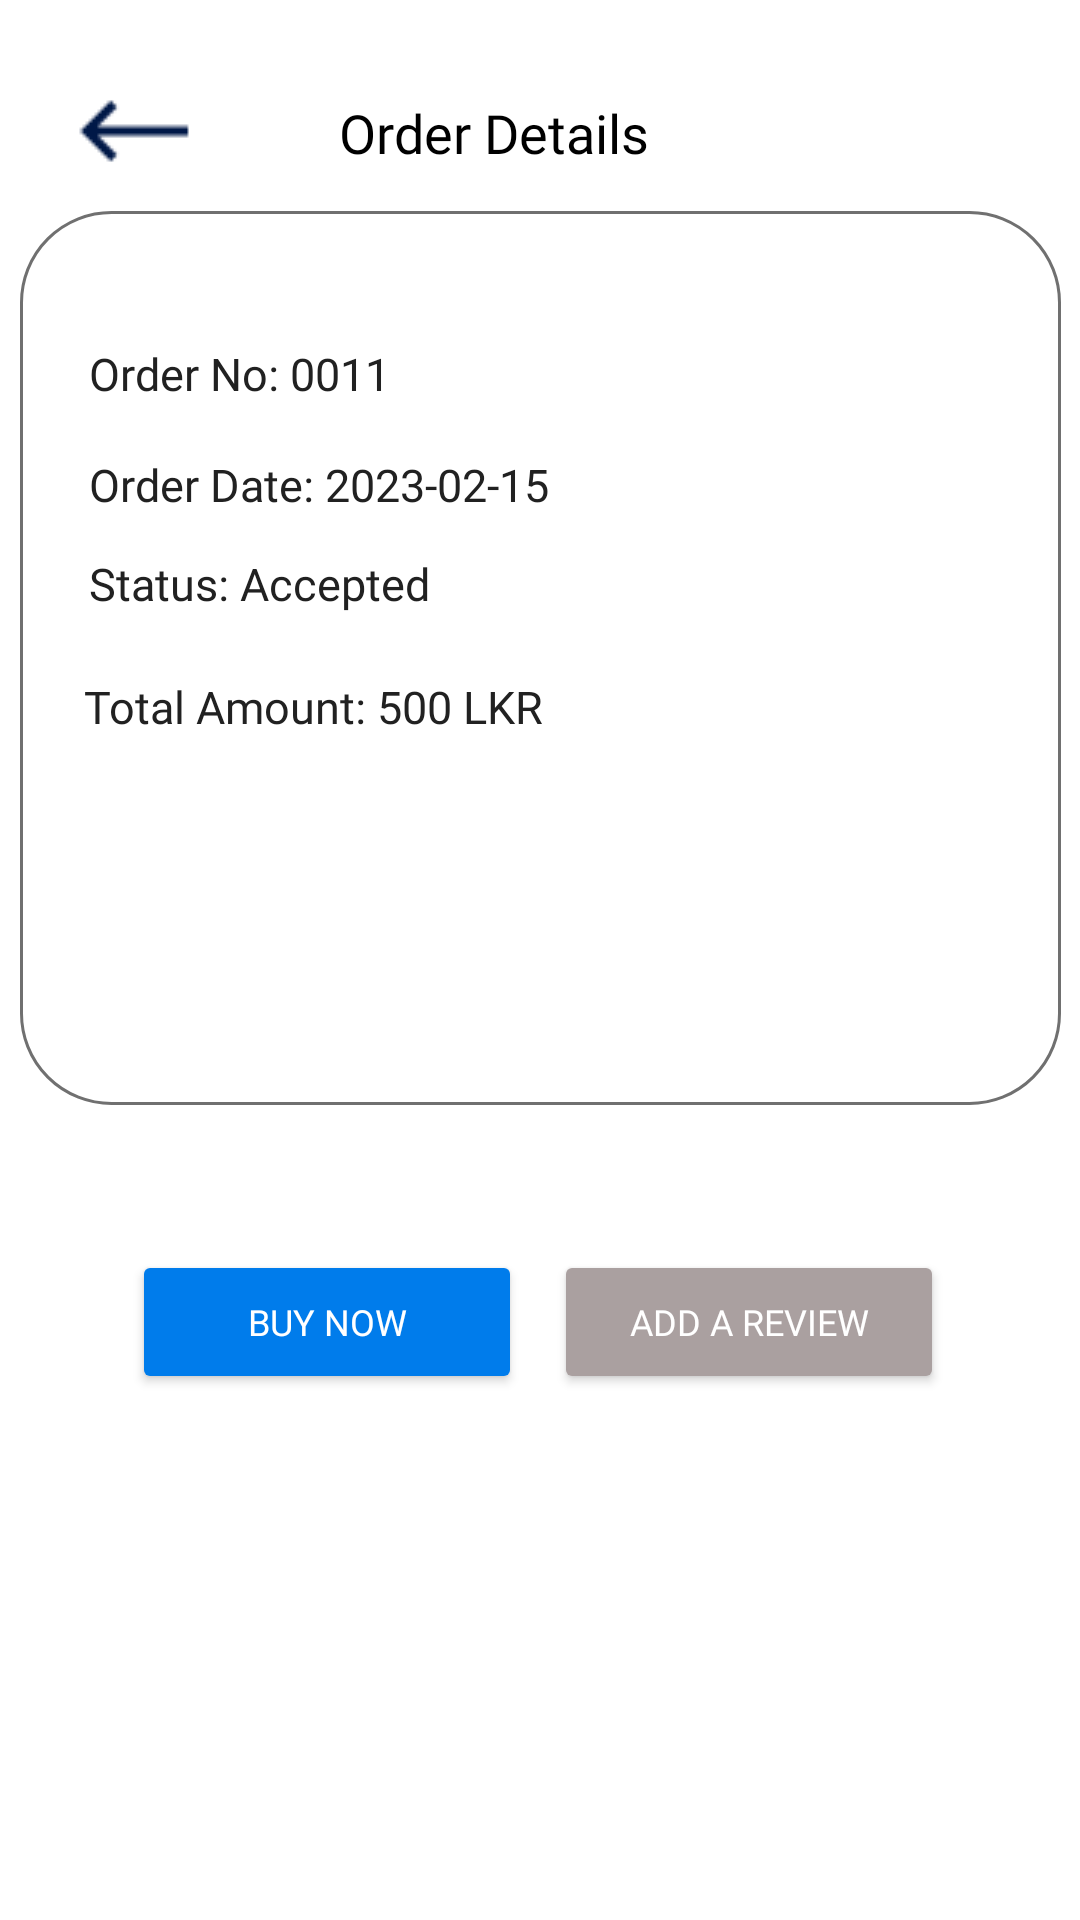

Named icons in this screenshot (1080w x 1920h) and their bounding boxes, [x1,y1,x2,y2]:
arrow back: [79,100,189,162]
